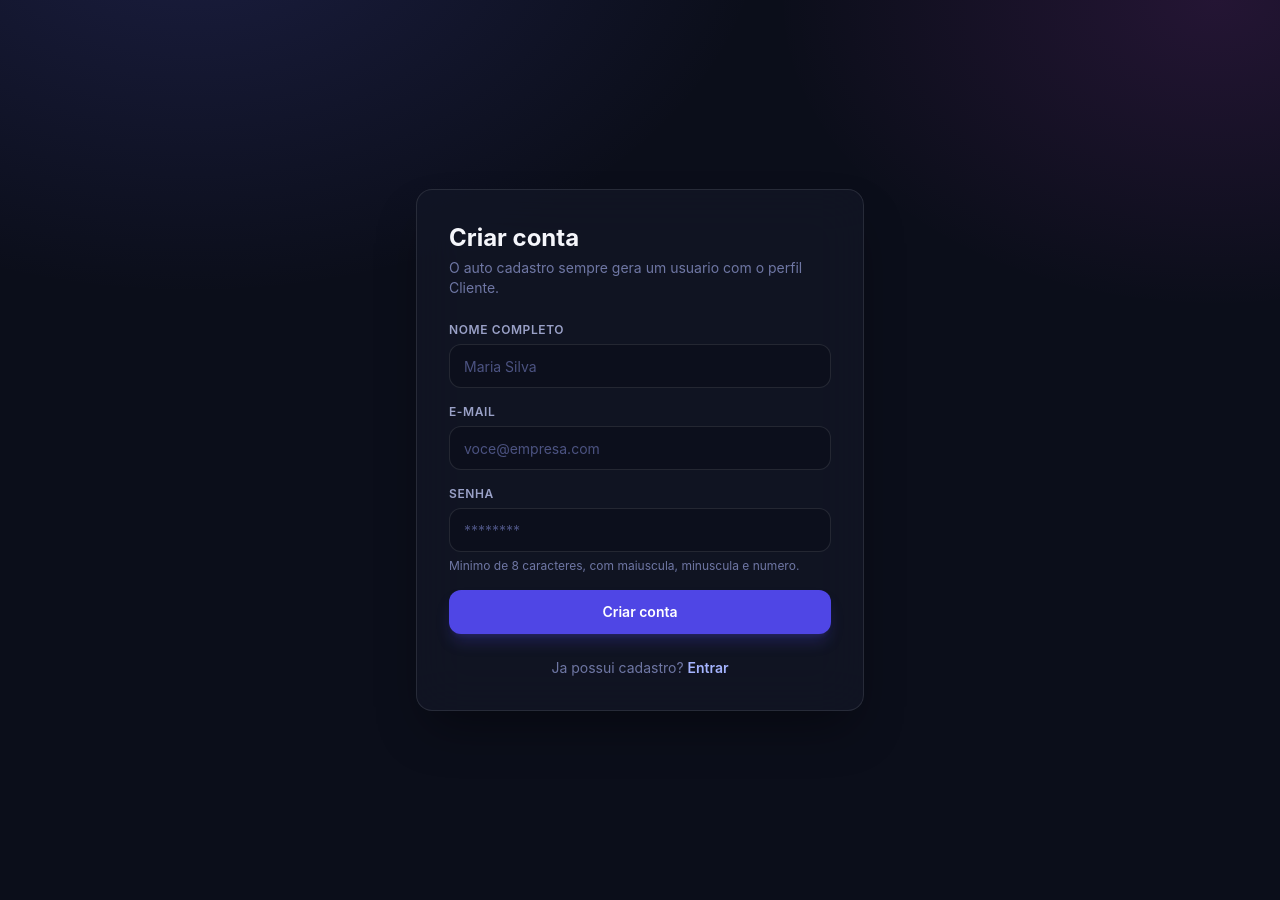
Test: <Register /> › exibe conflito de e-mail ja cadastrado
In the field labelled "Nome completo": coordinates (640, 366) [449,344,831,388], type "Nova Pessoa"
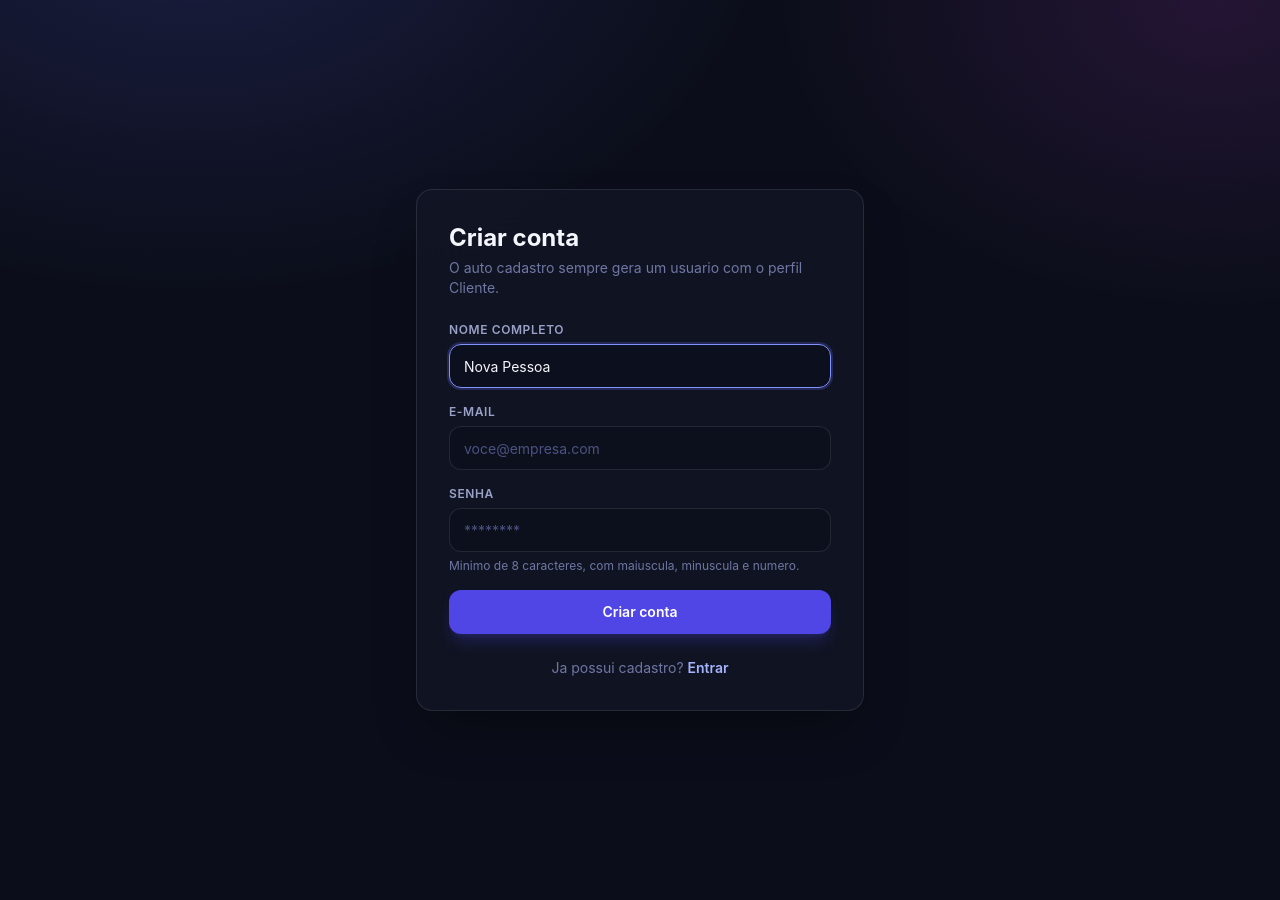
In the field labelled "E-mail": coordinates (640, 448) [449,426,831,470], type "ana@organizacion.dev"
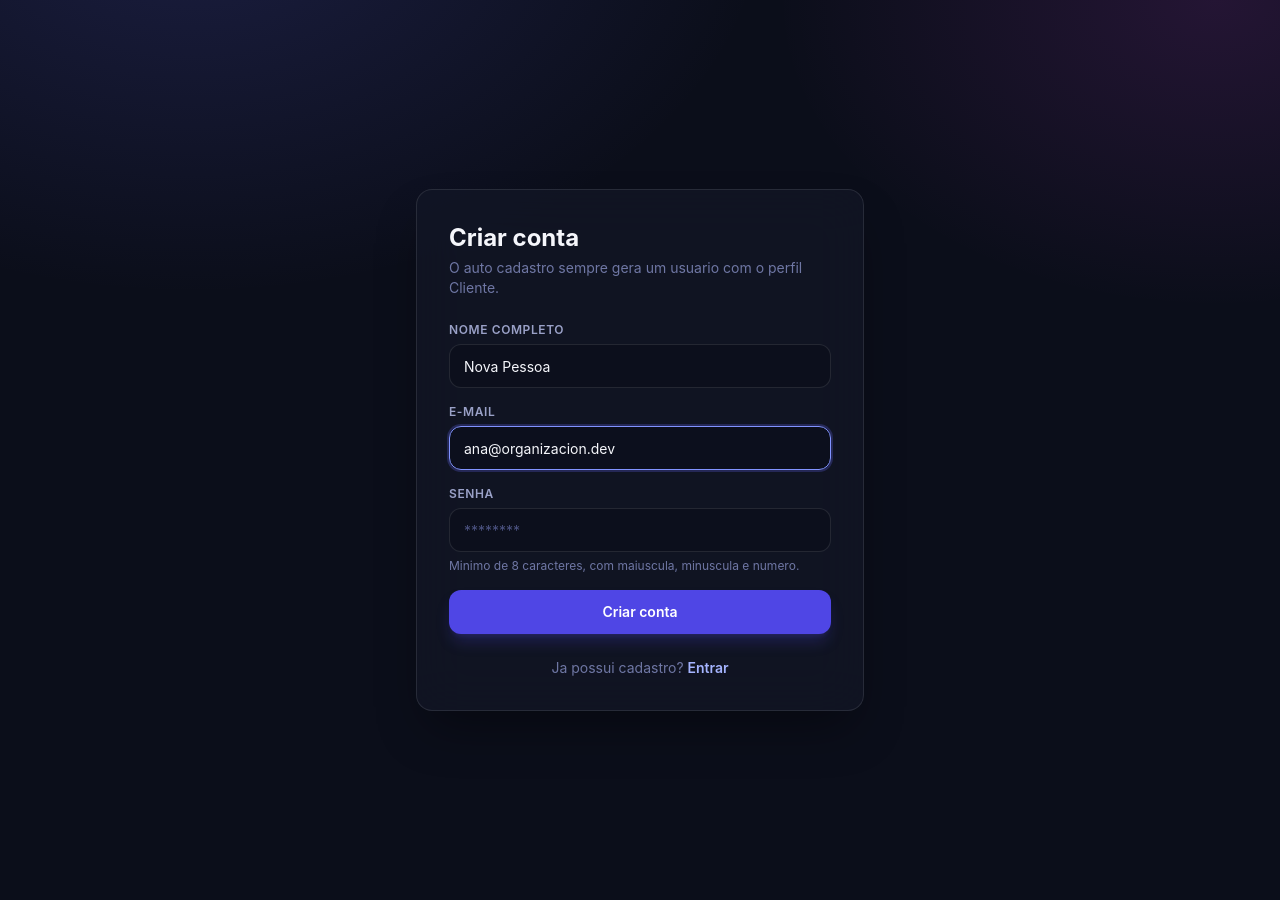
In the password field labelled "Senha": coordinates (640, 530) [449,508,831,552], type "Senha@123"
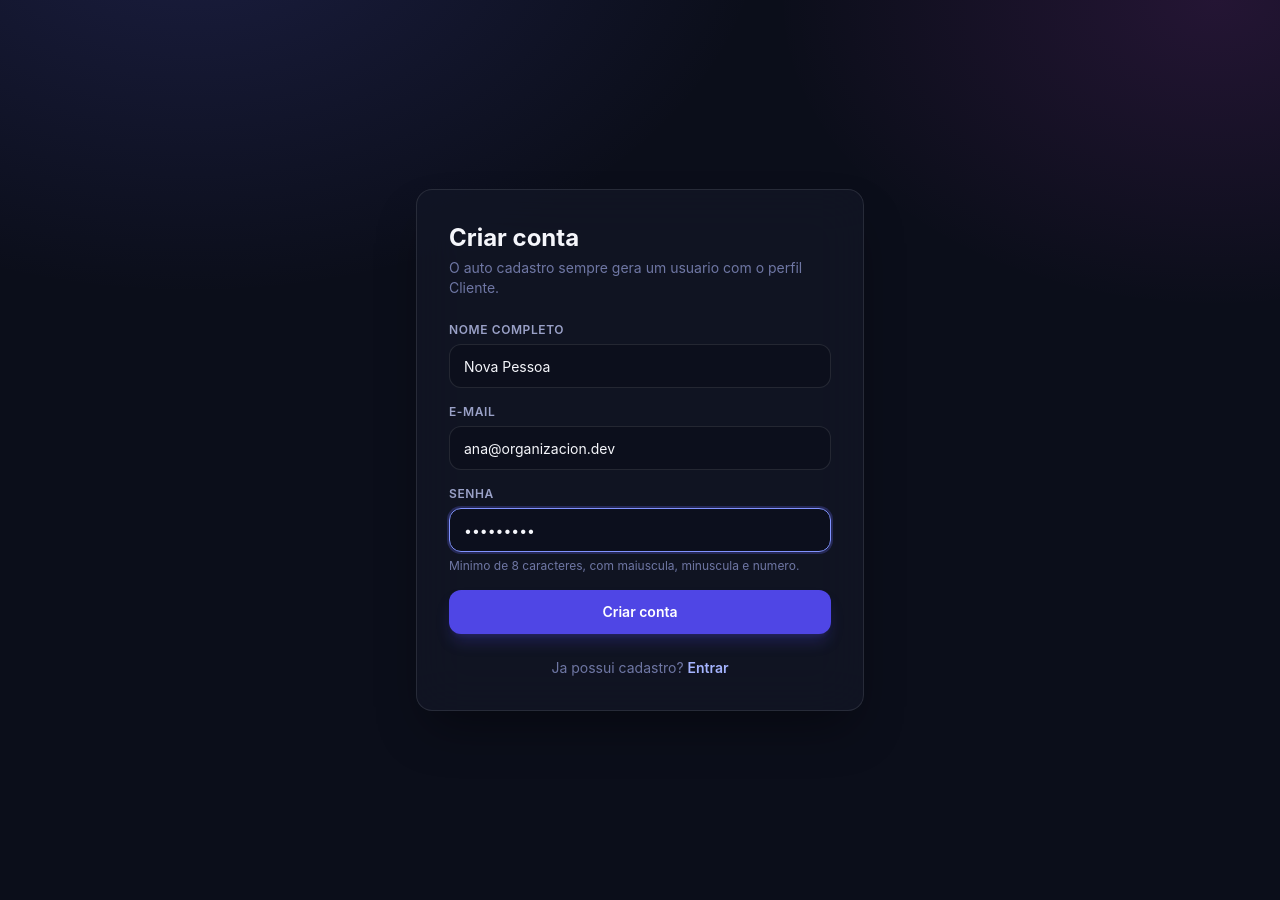
Click the button "Criar conta": coordinates (640, 612) [449,590,831,634]
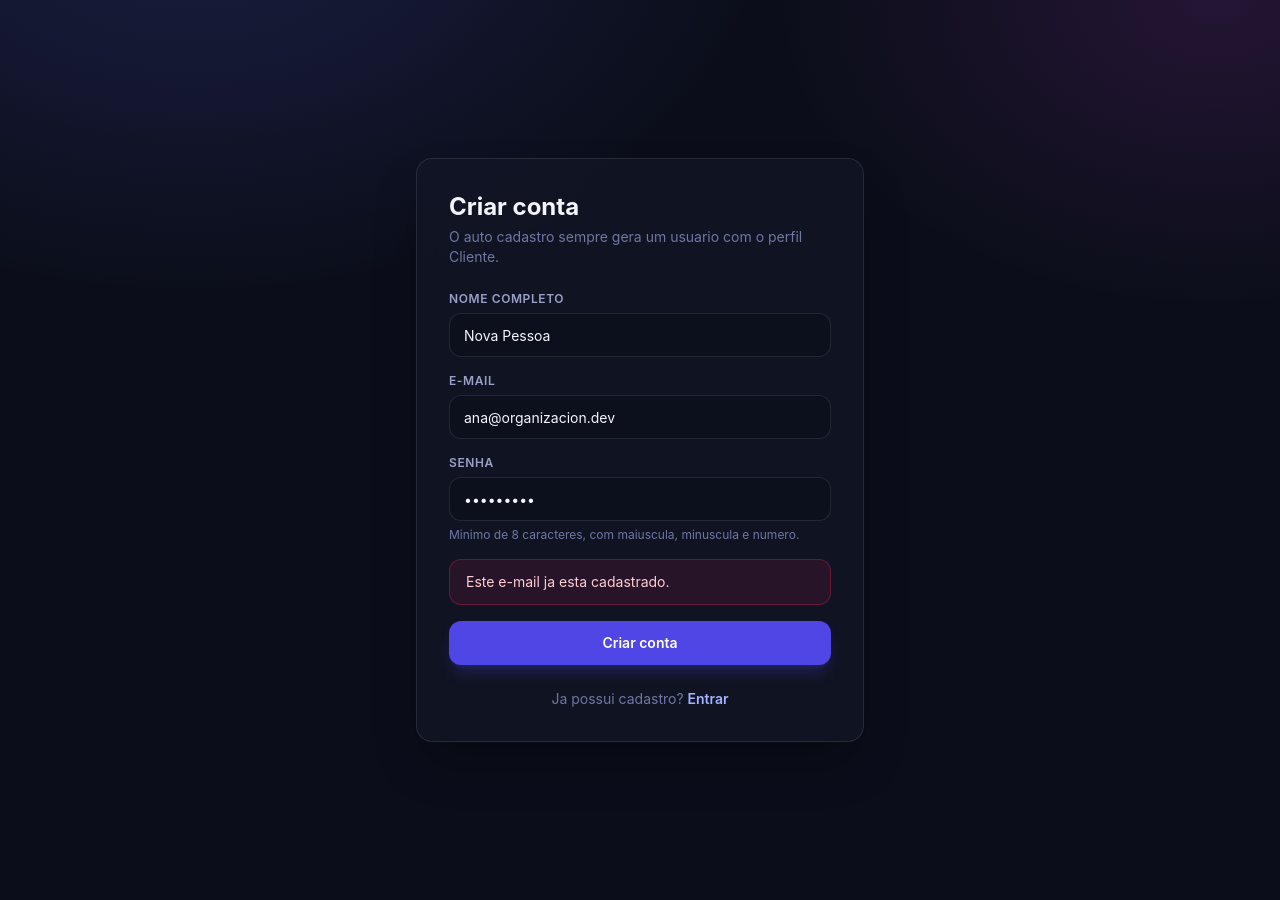
Check: the message reads "Este e-mail ja esta cadastrado.", box [466,573,670,590]
